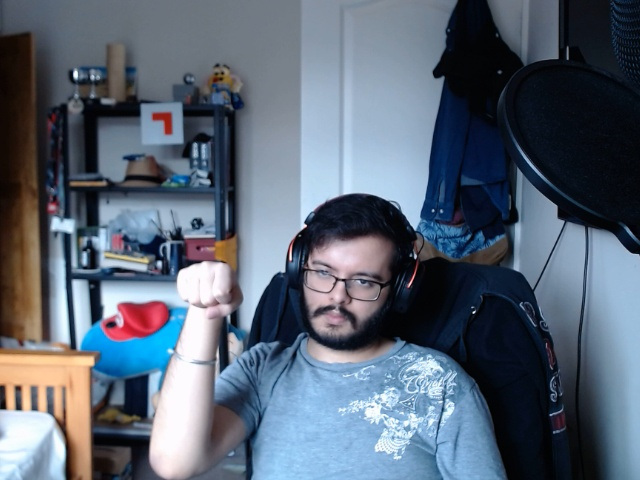Yes: (168, 248, 258, 320)
